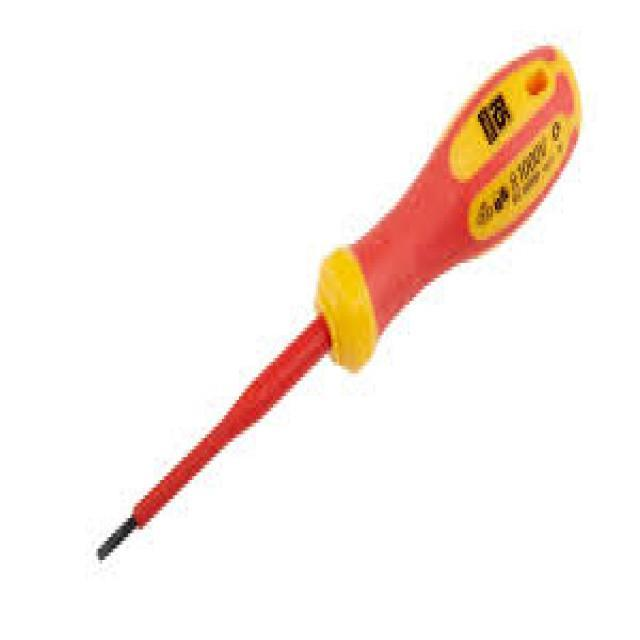screwdriver: (93, 42, 582, 564)
